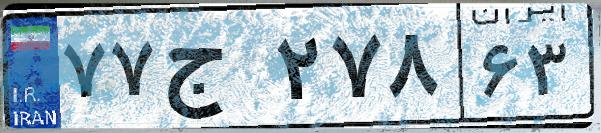2: (270, 28, 330, 110)
3: (525, 38, 570, 115)
6: (475, 38, 525, 113)
7: (330, 28, 385, 110), (57, 26, 110, 100), (110, 28, 158, 98)
8: (385, 28, 445, 110)
ج: (158, 20, 270, 120)
